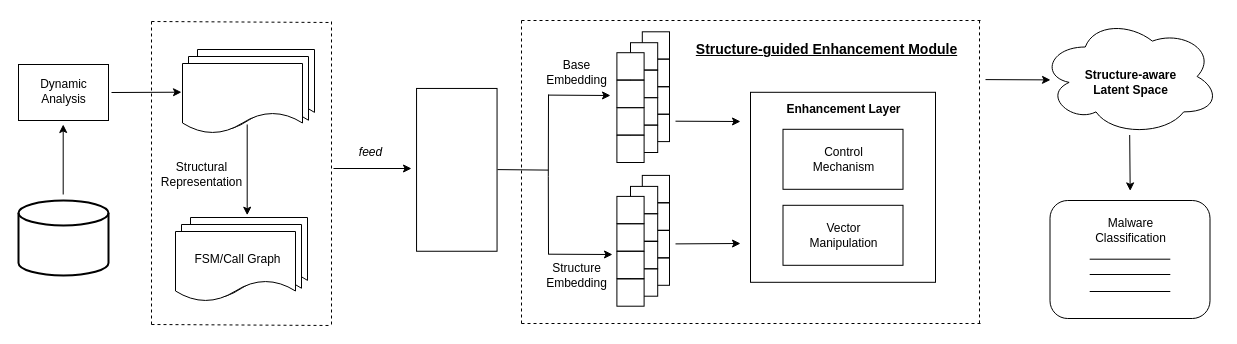
This 1237x344 diagram has some shape labels left out. Here are the shapes that lost their labels. From the top down, the box of each, then its label:
(182, 62, 302, 134): API Call Sequence
(416, 88, 497, 251): LLM Encoder
(17, 199, 109, 276): Malware Samples
